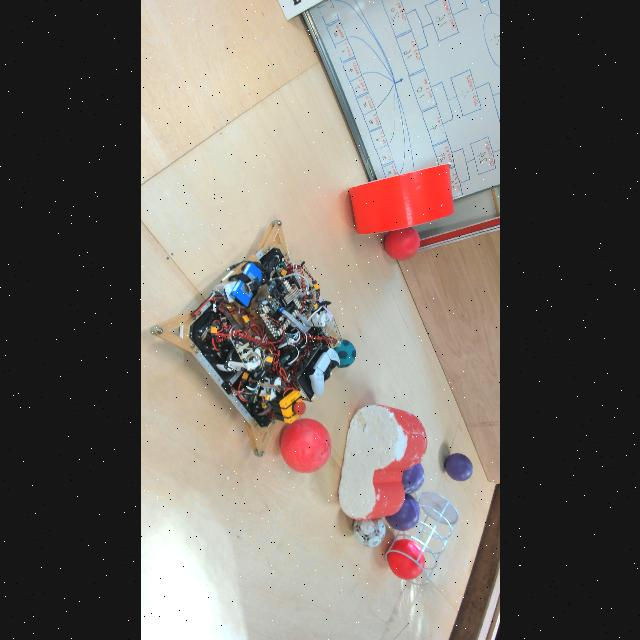P: (382, 492, 420, 532), (390, 460, 424, 494), (443, 452, 472, 482)
R: (279, 417, 331, 473), (385, 539, 425, 581), (384, 224, 421, 262)
S: (384, 489, 460, 586)
